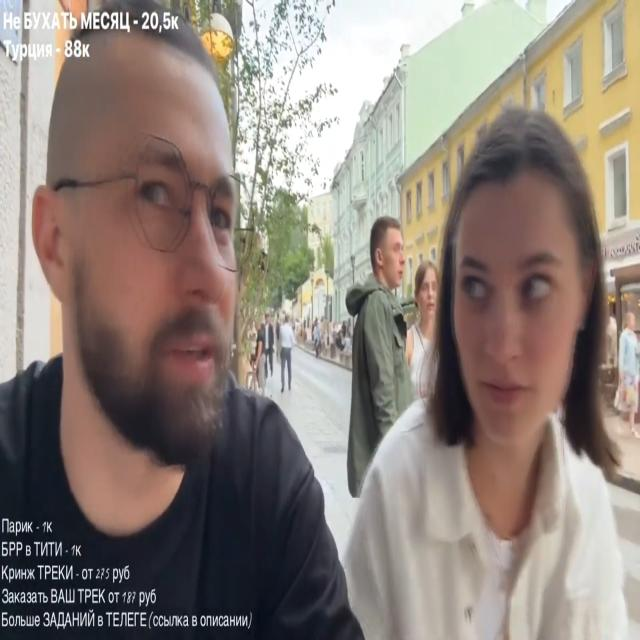Person: (0, 13, 364, 640), (338, 135, 640, 633), (345, 224, 438, 493), (617, 316, 640, 429)
